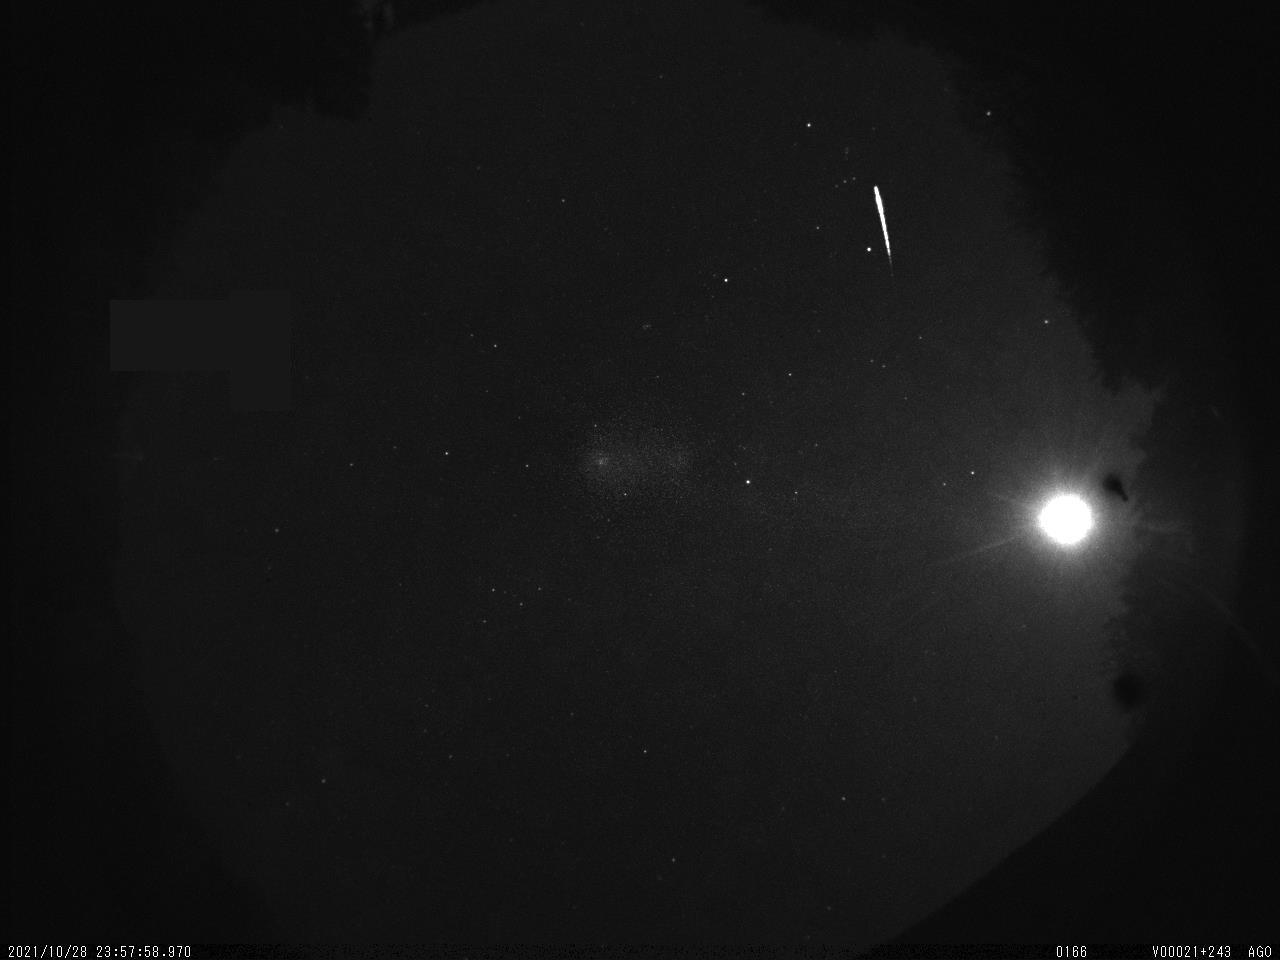meteor: (862, 183, 911, 270)
